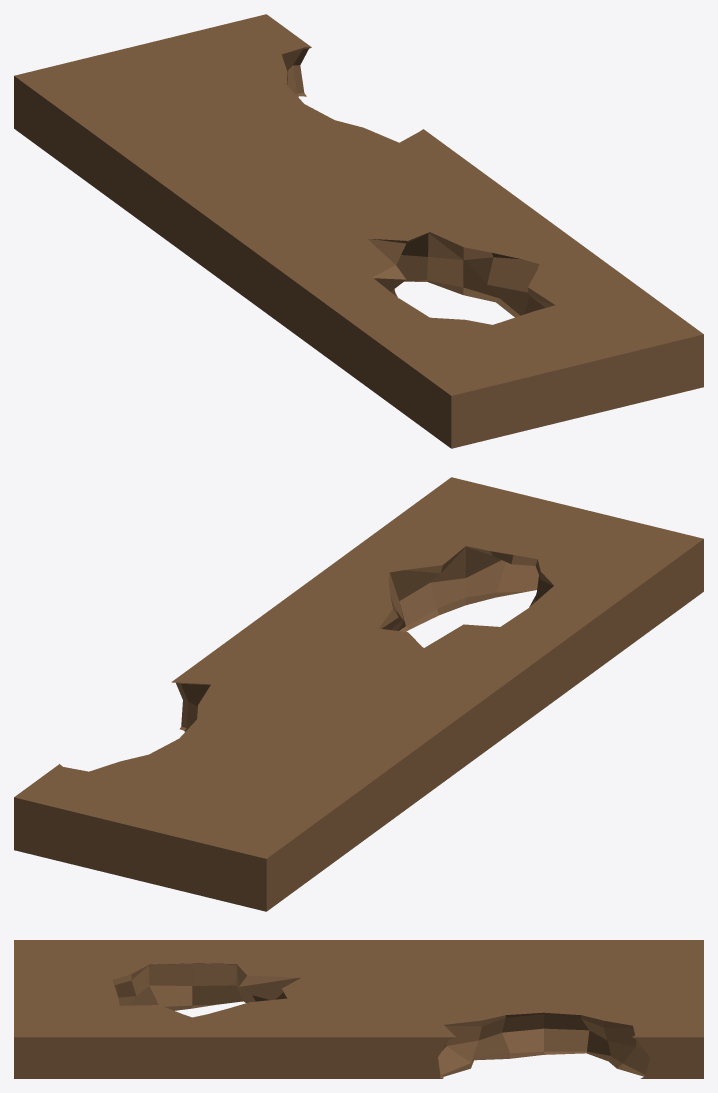
Rendered from plank_4.fbx.
3 views of the same model, one above another, from view 1: azimuth 30°, elevation 25°; view 2: azimuth 150°, elevation 25°; view 3: azimuth 270°, elevation 25° (orthographic). The views are drawn at different scales.
Parts seen in each view (by area): view 1: Cube; view 2: Cube; view 3: Cube.
Part boxes in pixels (bbox=[...]): Cube: bbox=[14, 14, 703, 448]; Cube: bbox=[14, 477, 703, 911]; Cube: bbox=[14, 940, 703, 1078].
Size of the model in its own units: 200 by 40 by 600.
